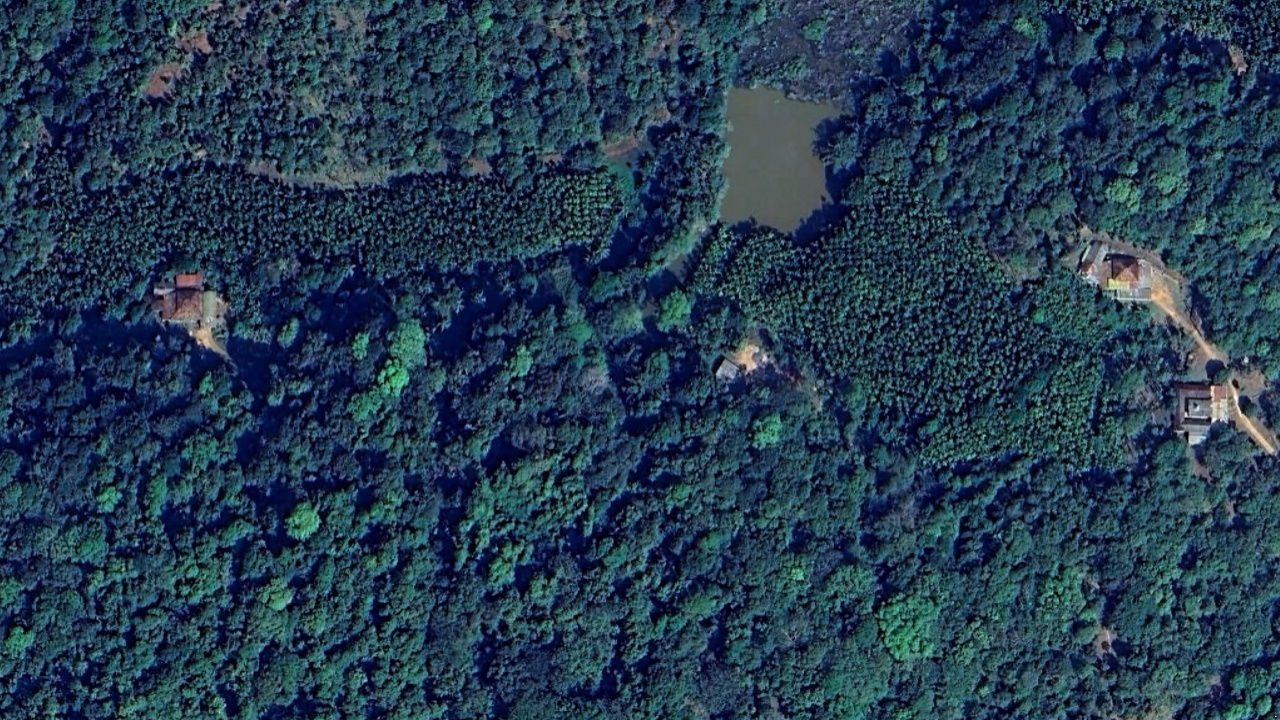arecanut: (694, 171, 1128, 473), (15, 144, 621, 314)
